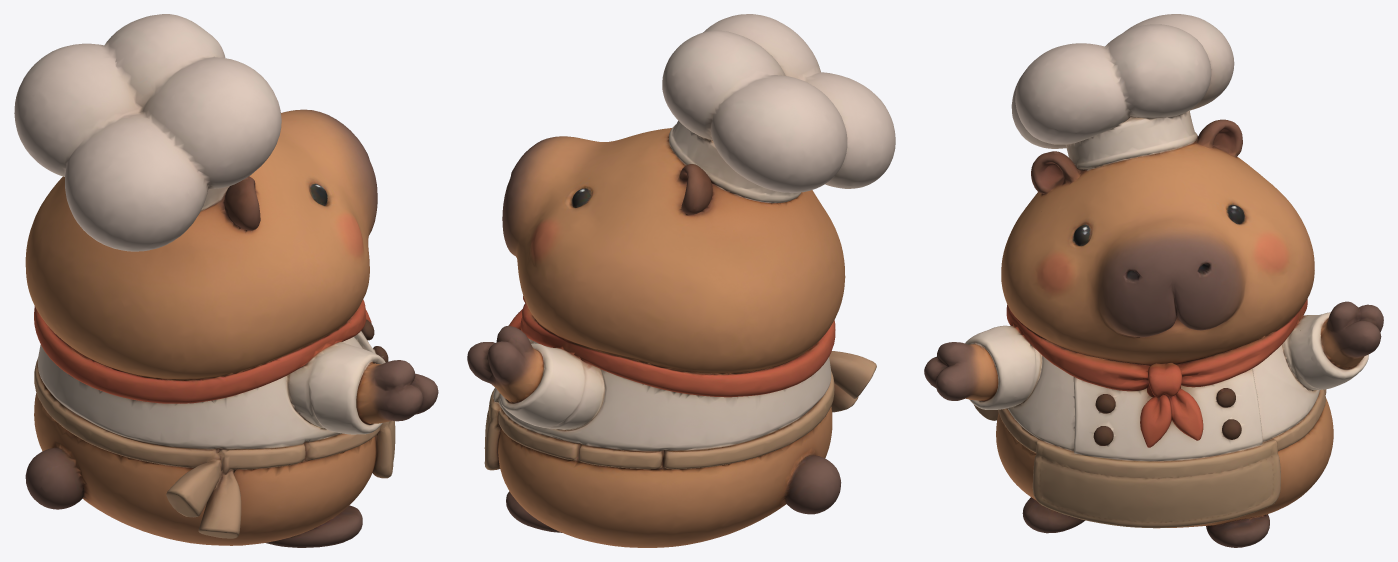
File: chef.glb
The picture shows the model from 3 angles, left to right: view 1: azimuth 30°, elevation 25°; view 2: azimuth 150°, elevation 25°; view 3: azimuth 270°, elevation 25°; orthographic projection. The views are drawn at different scales.
Visible parts, largest first — view 1: tripo_node_5b53b4f8-f00e-490f-aab1-5f4ef7501694; view 2: tripo_node_5b53b4f8-f00e-490f-aab1-5f4ef7501694; view 3: tripo_node_5b53b4f8-f00e-490f-aab1-5f4ef7501694.
Part boxes in pixels (<box>): tripo_node_5b53b4f8-f00e-490f-aab1-5f4ef7501694: <box>14,14,438,547</box>; tripo_node_5b53b4f8-f00e-490f-aab1-5f4ef7501694: <box>467,14,895,547</box>; tripo_node_5b53b4f8-f00e-490f-aab1-5f4ef7501694: <box>924,14,1383,547</box>.
Size of the model in its own units: 0.7095 by 1 by 0.9293.
1 material, 1 textured.
